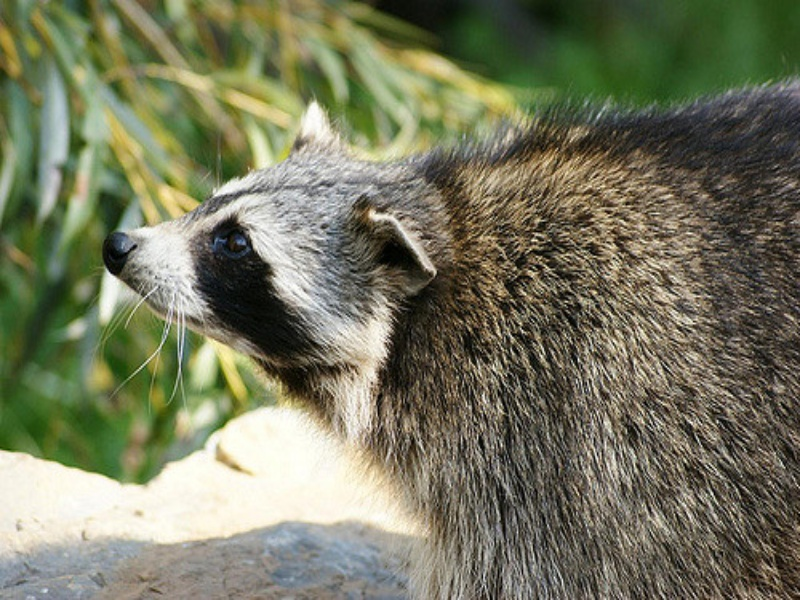raccoon: (88, 89, 797, 597)
